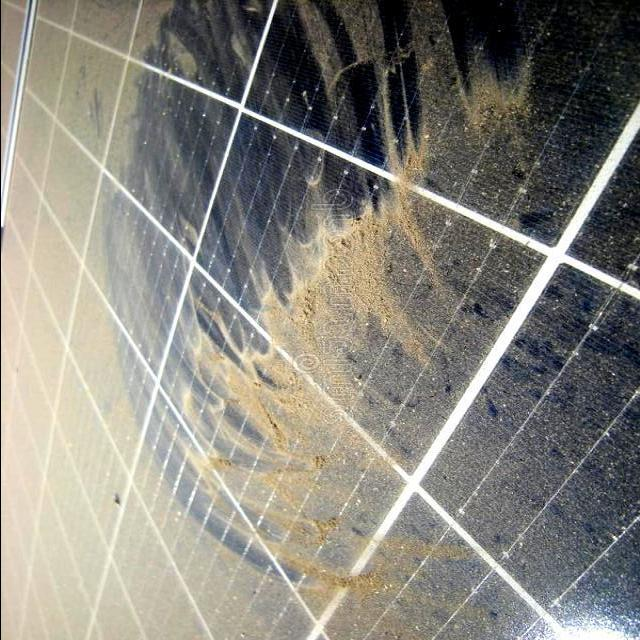soiled: (12, 15, 640, 640)
